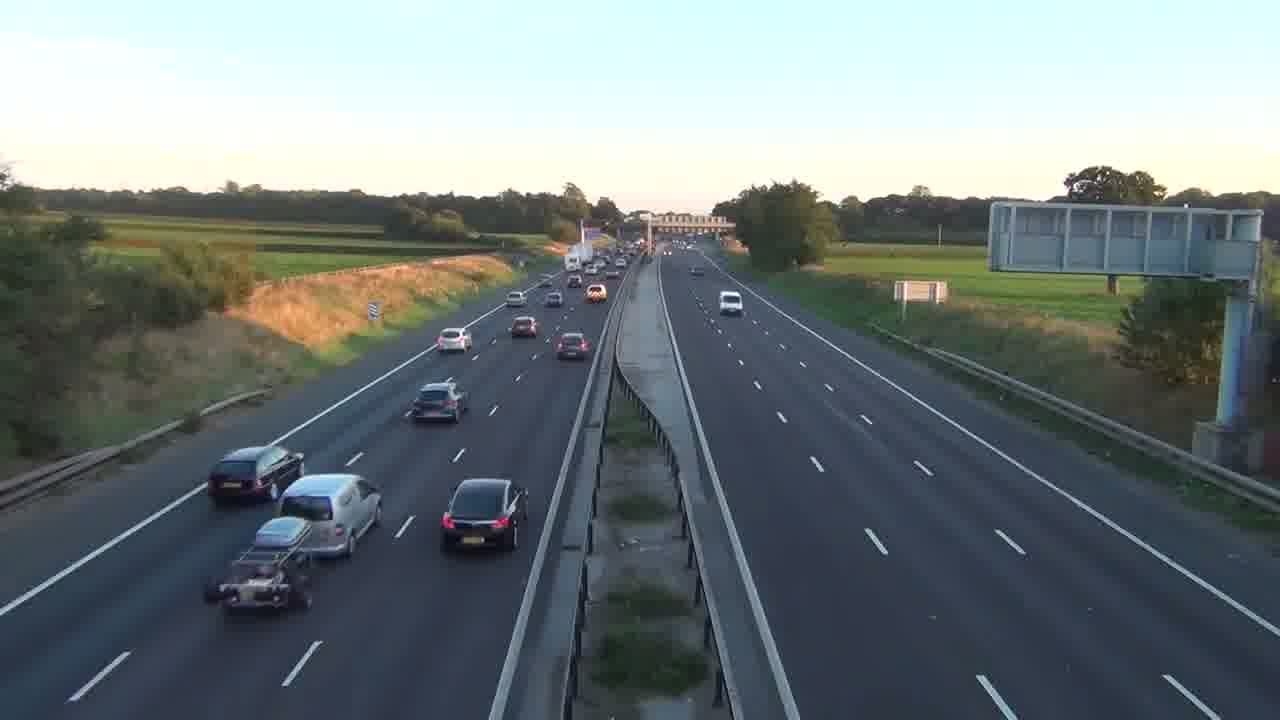car: (270, 472, 383, 559), (439, 477, 530, 552), (207, 445, 304, 504), (405, 379, 468, 423), (554, 331, 592, 361), (438, 328, 469, 353), (511, 315, 538, 339), (545, 290, 564, 307)
